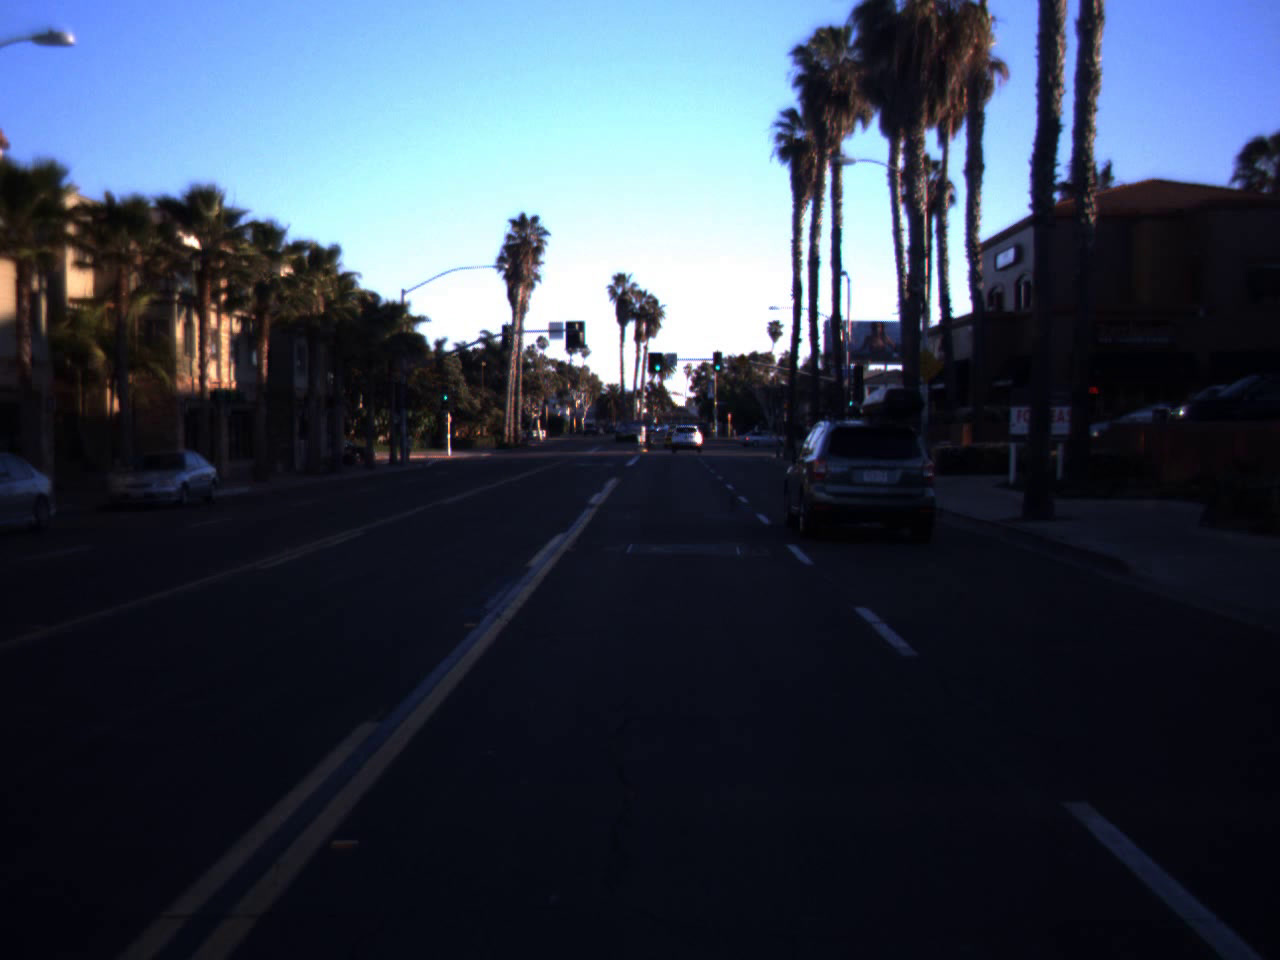go: (651, 352, 663, 372), (711, 351, 723, 371), (439, 382, 451, 402)
